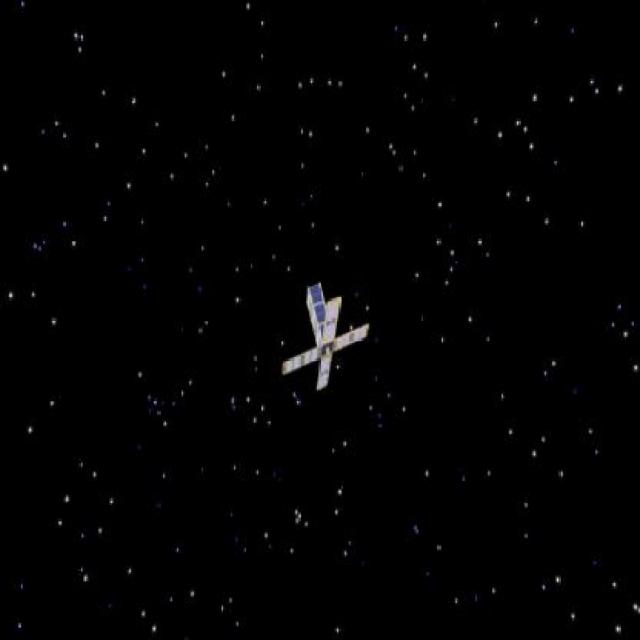medium_debris: (275, 277, 381, 398)
